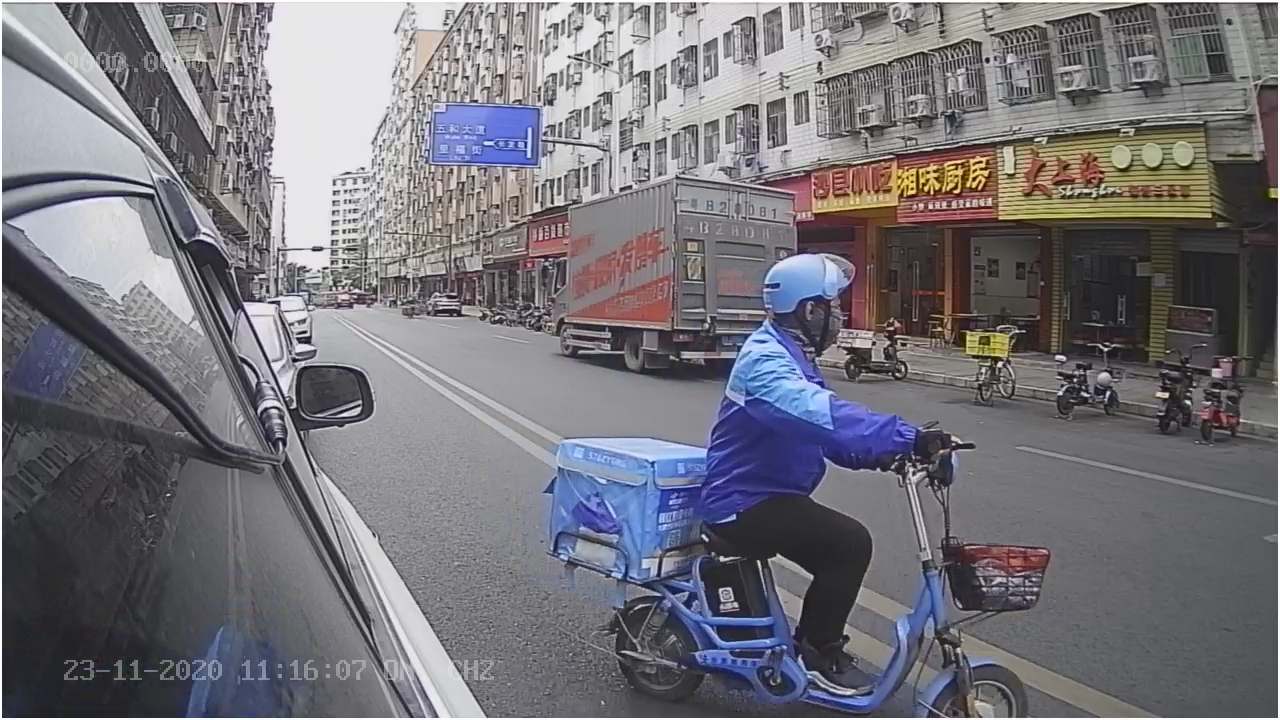person: (713, 247, 959, 447)
